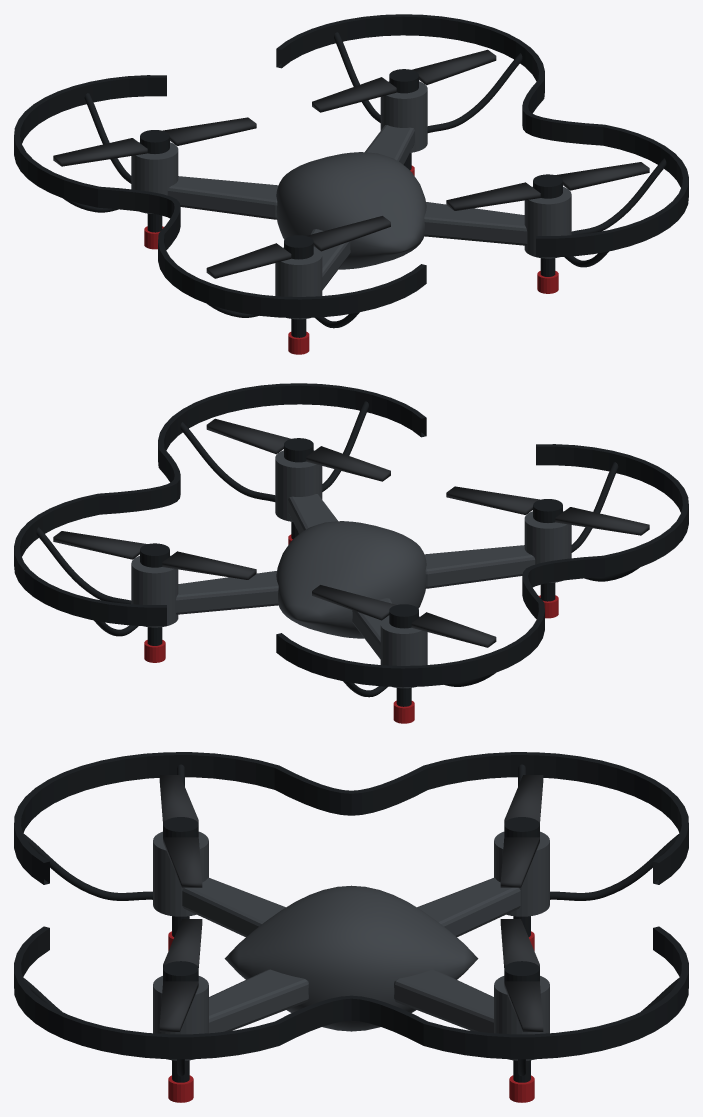
File: drone2.glb
3 views of the same model, one above another, from view 1: azimuth 30°, elevation 25°; view 2: azimuth 150°, elevation 25°; view 3: azimuth 270°, elevation 25° (orthographic). The views are drawn at different scales.
Parts seen in each view (by area): view 1: guard_side_left, guard_side_right, body_core, arm_rl, arm_fr, rotor_fr_blades, rotor_rl_blades, rotor_fl_blades, rotor_rr_blades, motor_fr, motor_rr, motor_fl (+11 smaller); view 2: guard_side_left, guard_side_right, body_core, arm_fl, arm_rr, rotor_fl_blades, rotor_rr_blades, rotor_rl_blades, rotor_fr_blades, motor_rr, motor_fr, motor_rl (+11 smaller); view 3: guard_side_right, guard_side_left, body_core, arm_fr, arm_rr, arm_fl, arm_rl, rotor_fr_blades, rotor_rr_blades, rotor_fl_blades, rotor_rl_blades, motor_fl (+11 smaller).
Part boxes in pixels (box(x1,y1,x2,y2)): guard_side_left: box(14, 75, 426, 318); guard_side_right: box(276, 14, 688, 257); body_core: box(276, 152, 426, 269); arm_rl: box(167, 176, 278, 219); arm_fr: box(424, 202, 527, 245); rotor_fr_blades: box(446, 162, 649, 210); rotor_rl_blades: box(53, 117, 256, 166); rotor_fl_blades: box(206, 216, 390, 278); rotor_rr_blades: box(312, 49, 496, 112); motor_fr: box(524, 186, 571, 258); motor_rr: box(380, 81, 427, 152); motor_fl: box(275, 247, 322, 319); guard_side_left: box(276, 444, 688, 687); guard_side_right: box(14, 383, 426, 626); body_core: box(276, 521, 426, 638); arm_fl: box(424, 545, 535, 588); arm_rr: box(175, 571, 278, 614); rotor_fl_blades: box(446, 486, 649, 535); rotor_rr_blades: box(53, 531, 256, 579); rotor_rl_blades: box(312, 585, 496, 647); rotor_fr_blades: box(206, 418, 390, 481); motor_rr: box(131, 555, 178, 627); motor_fr: box(275, 450, 322, 521); motor_rl: box(380, 616, 427, 688); guard_side_right: box(14, 926, 688, 1059); guard_side_left: box(14, 752, 688, 884); body_core: box(224, 885, 478, 1031); arm_fr: box(209, 969, 308, 1033); arm_rr: box(394, 969, 493, 1033); arm_fl: box(182, 877, 285, 937); arm_rl: box(417, 877, 520, 937); rotor_fr_blades: box(159, 919, 202, 1031); rotor_rr_blades: box(500, 919, 543, 1031); rotor_fl_blades: box(159, 775, 202, 887); rotor_rl_blades: box(500, 775, 543, 887); motor_fl: box(153, 831, 208, 916).
Size of what is drawn, in the model's own units: 0.1329 by 0.0284 by 0.1329.
